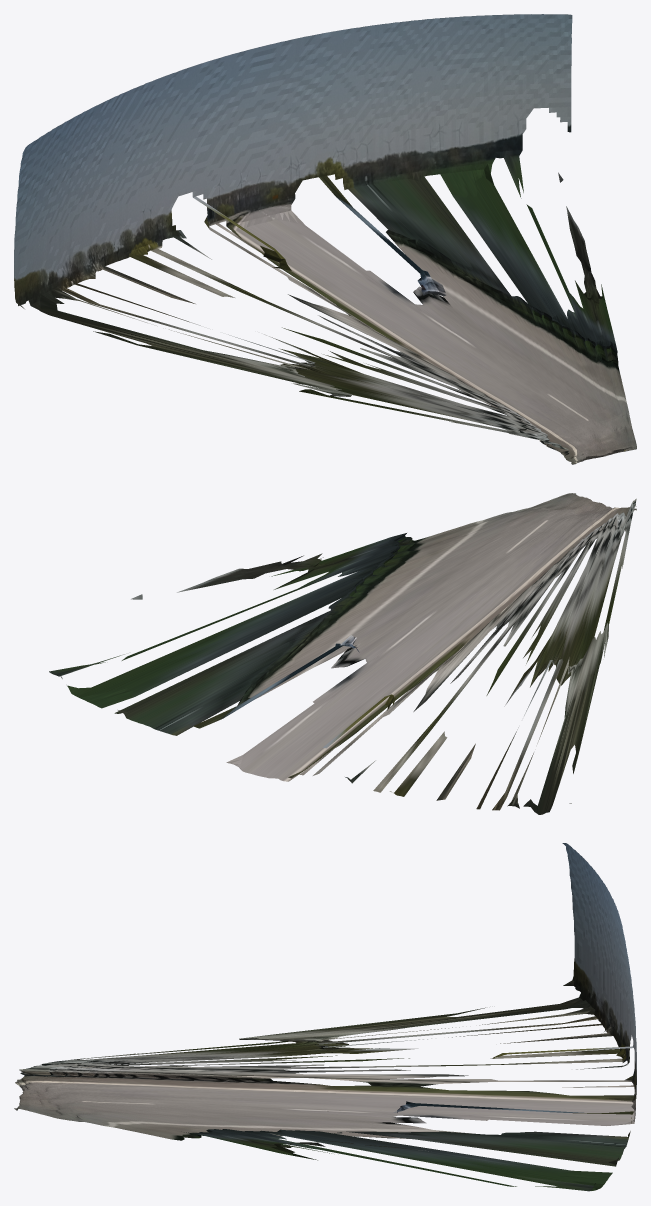
3 views of the same model, one above another, from view 1: azimuth 30°, elevation 25°; view 2: azimuth 150°, elevation 25°; view 3: azimuth 270°, elevation 25° (orthographic). The views are drawn at different scales.
Visible parts, largest first — view 1: defaultobject; view 2: defaultobject; view 3: defaultobject.
Part boxes in pixels (x1,y1,x2,y2): defaultobject: (14,14,636,464); defaultobject: (49,493,636,814); defaultobject: (14,843,636,1191).
Size of the model in its own units: 41.16 by 12.91 by 44.57.
Materials: 1 (1 with a texture image).
